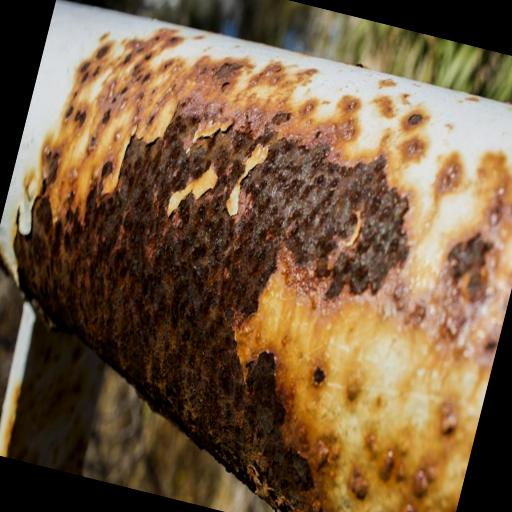segmentation: (0, 63, 431, 512), (216, 279, 500, 512), (69, 25, 257, 146), (236, 56, 325, 140), (444, 232, 491, 302)
